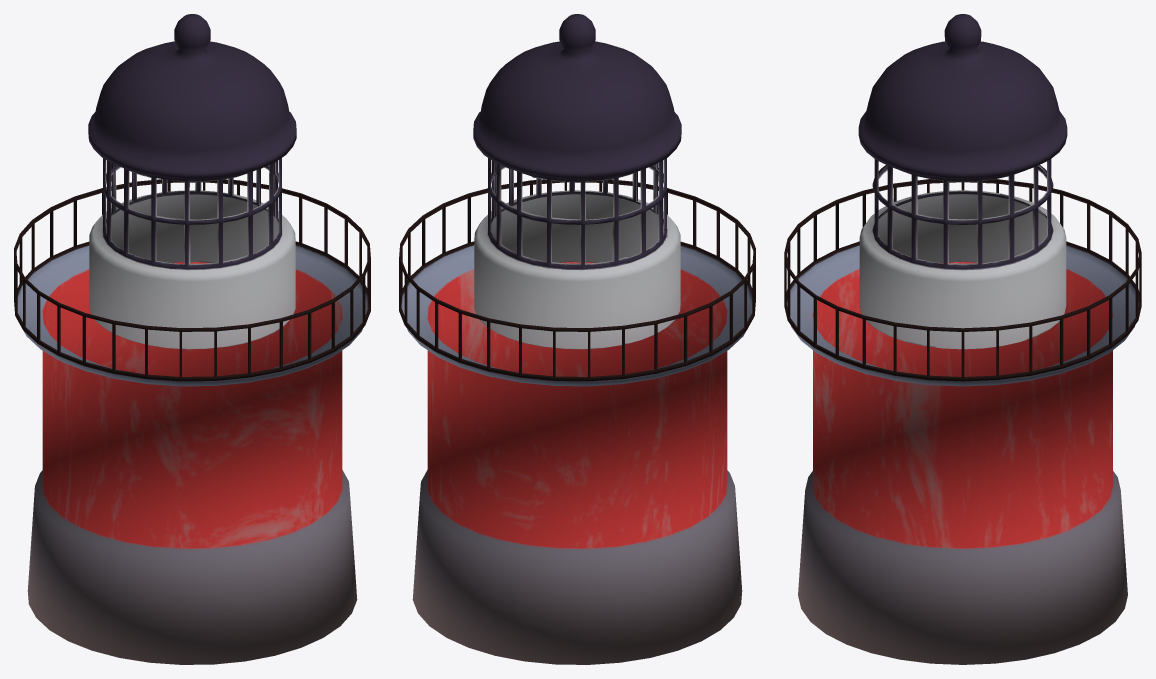
File: Lighthouse.fbx
3 views of the same model, side by side, from view 1: azimuth 30°, elevation 25°; view 2: azimuth 150°, elevation 25°; view 3: azimuth 270°, elevation 25° (orthographic).
Visible parts, largest first — view 1: Lighthouse; view 2: Lighthouse; view 3: Lighthouse.
Boxes of the visible parts, box(x1,y1,x2,y2) form: Lighthouse: box(14, 14, 370, 664); Lighthouse: box(399, 14, 755, 664); Lighthouse: box(784, 14, 1141, 664).
Bounding box in the file's own units: 953 × 1702 × 953.
1 material, 1 textured.
